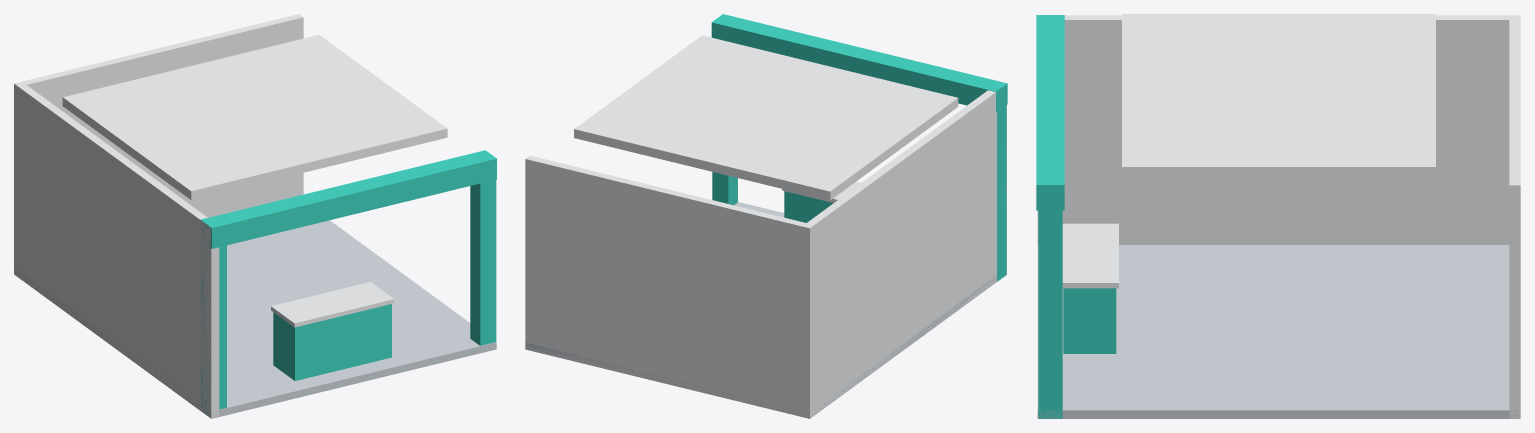
3 renders of one model, left to right at view 1: azimuth 30°, elevation 25°; view 2: azimuth 150°, elevation 25°; view 3: azimuth 270°, elevation 25°, orthographic. The views are drawn at different scales.
Visible parts, largest first — view 1: Exhibition Booth Concept; view 2: Exhibition Booth Concept; view 3: Exhibition Booth Concept.
Part boxes in pixels (x1=…): Exhibition Booth Concept: x1=14, y1=14, x2=496, y2=418; Exhibition Booth Concept: x1=525, y1=14, x2=1007, y2=418; Exhibition Booth Concept: x1=1036, y1=14, x2=1520, y2=418.
Bounding box in the file's own units: 5 × 3.34 × 6.02.
